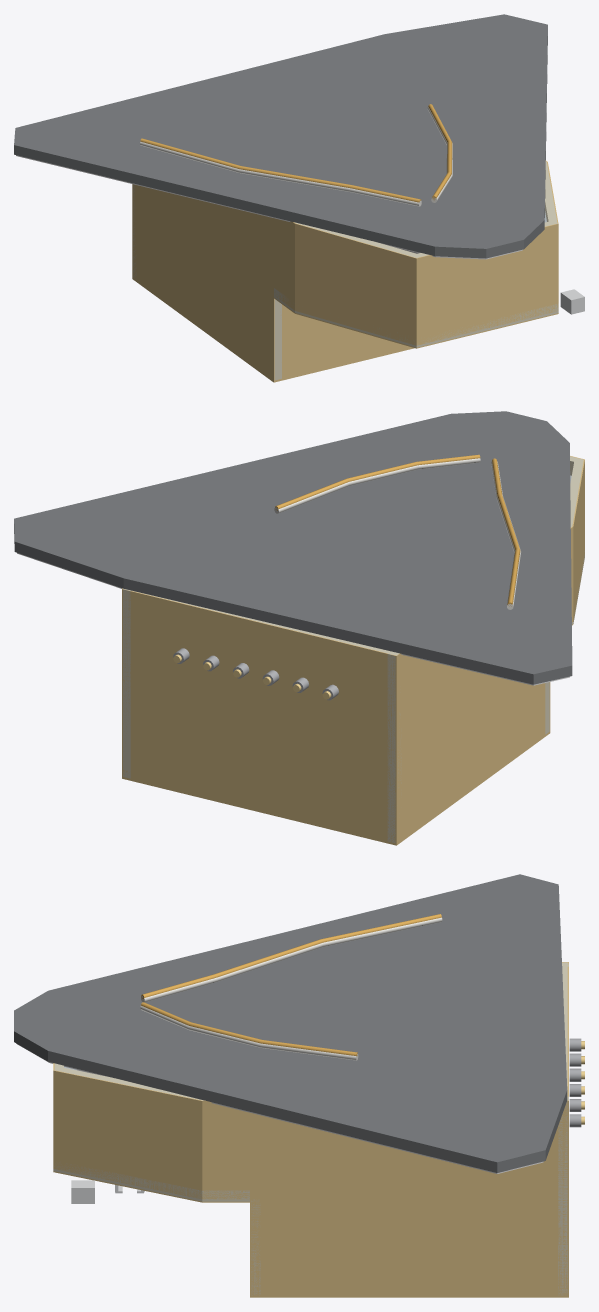
Rendered from mer-avionics.glb.
3 views of the same model, one above another, from view 1: azimuth 30°, elevation 25°; view 2: azimuth 150°, elevation 25°; view 3: azimuth 270°, elevation 25° (orthographic). The views are drawn at different scales.
Parts seen in each view (by area): view 1: RED_DECK, WEB_WALL_RIGHT_LOWER, WEB_WALL_FRONT, WEB_WALL_FRONT_RIGHT, WEB_WALL_RIGHT, WEB_BAY_BACK_WALL, CHASSIS_HARNESS, WEB_SHELF, WEB_BELLY_PAN, IDD_STOW_FEATURES, WEB_WALL_FRONT_LEFT; view 2: RED_DECK, WEB_WALL_REAR, WEB_WALL_RIGHT_LOWER, WEB_WALL_RIGHT, WEB_BELLY_PAN, CHASSIS_HARNESS, WEB_WALL_FRONT_RIGHT, WEB_BULKHEAD_CONNECTORS, WEB_WALL_LEFT, WEB_WALL_LEFT_LOWER; view 3: RED_DECK, WEB_WALL_LEFT_LOWER, WEB_WALL_LEFT, WEB_WALL_FRONT_LEFT, CHASSIS_HARNESS, WEB_WALL_REAR, WEB_SHELF, WEB_BULKHEAD_CONNECTORS, WEB_BELLY_PAN, IDD_STOW_FEATURES.
Part boxes in pixels (box(x1,y1,x2,y2)): RED_DECK: box(14, 14, 547, 259); WEB_WALL_RIGHT_LOWER: box(132, 192, 281, 380); WEB_WALL_FRONT: box(412, 220, 558, 345); WEB_WALL_FRONT_RIGHT: box(295, 223, 420, 345); WEB_WALL_RIGHT: box(132, 184, 296, 310); WEB_BAY_BACK_WALL: box(281, 304, 410, 378); CHASSIS_HARNESS: box(140, 104, 452, 206); WEB_SHELF: box(274, 288, 558, 348); WEB_BELLY_PAN: box(132, 274, 414, 382); IDD_STOW_FEATURES: box(560, 289, 584, 314); WEB_WALL_FRONT_LEFT: box(545, 162, 558, 223); RED_DECK: box(14, 411, 572, 685); WEB_WALL_REAR: box(122, 589, 401, 843); WEB_WALL_RIGHT_LOWER: box(387, 677, 545, 843); WEB_WALL_RIGHT: box(387, 526, 573, 750); WEB_BELLY_PAN: box(122, 731, 550, 845); CHASSIS_HARNESS: box(274, 454, 521, 609); WEB_WALL_FRONT_RIGHT: box(570, 459, 584, 620); WEB_BULKHEAD_CONNECTORS: box(173, 648, 338, 700); WEB_WALL_LEFT: box(122, 588, 130, 685); WEB_WALL_LEFT_LOWER: box(122, 684, 130, 778); RED_DECK: box(14, 874, 567, 1173); WEB_WALL_LEFT_LOWER: box(250, 1199, 568, 1295); WEB_WALL_LEFT: box(202, 1096, 568, 1199); WEB_WALL_FRONT_LEFT: box(53, 1067, 202, 1199); CHASSIS_HARNESS: box(140, 914, 442, 1060); WEB_WALL_REAR: box(558, 962, 568, 1295); WEB_SHELF: box(53, 1162, 249, 1202); WEB_BULKHEAD_CONNECTORS: box(569, 1038, 584, 1127); WEB_BELLY_PAN: box(250, 1295, 568, 1297); IDD_STOW_FEATURES: box(71, 1180, 144, 1203).
Size of the model in its own units: 1.14 by 0.4045 by 0.958.
